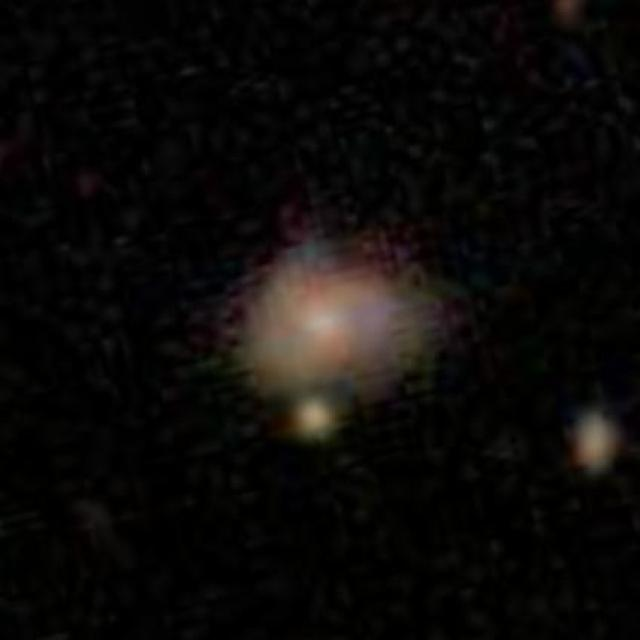galaxy: (215, 207, 470, 426), (568, 402, 629, 485), (286, 384, 342, 444), (552, 1, 584, 25)
